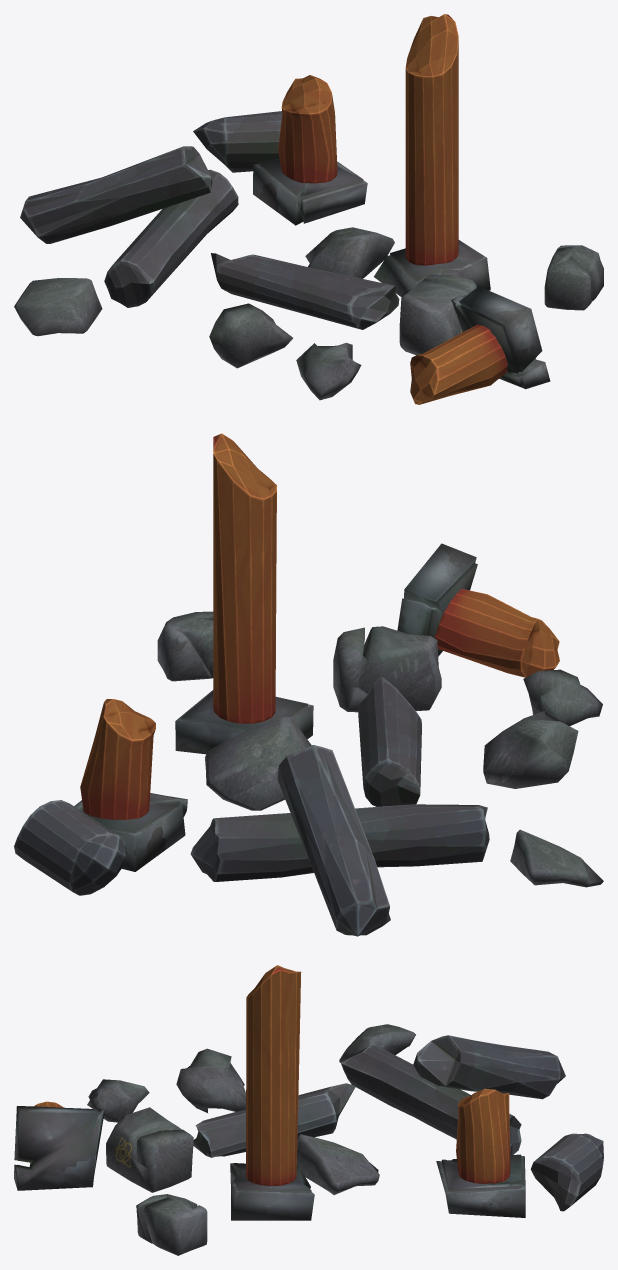
File: stylized_ruin_remains.glb
3 views of the same model, one above another, from view 1: azimuth 30°, elevation 25°; view 2: azimuth 150°, elevation 25°; view 3: azimuth 270°, elevation 25° (orthographic). The views are drawn at different scales.
Parts seen in each view (by area): view 1: Cube.400, Cube.414, Cube.401, Cube.412, Cube.397, Cube.410, Cube.409, Cube.398, Cube.417, Cube.814, Cube.420, Cube.442 (+4 smaller); view 2: Cube.400, Cube.412, Cube.414, Cube.410, Cube.417, Cube.420, Cube.397, Cube.401, Cube.418, Cube.442, Cube.409, Cube.398 (+4 smaller); view 3: Cube.400, Cube.409, Cube.414, Cube.412, Cube.417, Cube.397, Cube.401, Cube.420, Cube.398, Cube.399, Cube.416, Cube.418 (+3 smaller).
Boxes of the visible parts, x1,y1,x2,y2 form: Cube.400: (405, 14, 458, 265); Cube.414: (20, 146, 212, 243); Cube.401: (211, 253, 399, 329); Cube.412: (104, 169, 238, 307); Cube.397: (278, 75, 337, 183); Cube.410: (410, 324, 507, 404); Cube.409: (451, 286, 550, 389); Cube.398: (253, 158, 367, 225); Cube.417: (399, 274, 476, 355); Cube.814: (14, 278, 102, 336); Cube.420: (193, 111, 282, 172); Cube.442: (209, 303, 292, 368); Cube.400: (213, 433, 276, 723); Cube.412: (190, 804, 489, 881); Cube.414: (277, 745, 390, 936); Cube.410: (434, 589, 559, 677); Cube.417: (333, 626, 441, 712); Cube.420: (14, 800, 126, 895); Cube.397: (80, 699, 155, 819); Cube.401: (358, 677, 421, 806); Cube.418: (205, 716, 311, 810); Cube.442: (483, 711, 578, 788); Cube.409: (397, 543, 477, 656); Cube.398: (74, 793, 187, 871); Cube.400: (246, 965, 301, 1185); Cube.409: (14, 1106, 104, 1190); Cube.414: (413, 1035, 565, 1099); Cube.412: (340, 1043, 521, 1155); Cube.417: (106, 1107, 193, 1192); Cube.397: (456, 1088, 510, 1183); Cube.401: (193, 1083, 355, 1157); Cube.420: (530, 1133, 603, 1211); Cube.398: (436, 1154, 525, 1217); Cube.399: (230, 1163, 314, 1220); Cube.416: (136, 1194, 207, 1255); Cube.418: (296, 1134, 379, 1194).
Size of the model in its own units: 12.82 by 6.86 by 14.71.
1 material, 1 textured.
